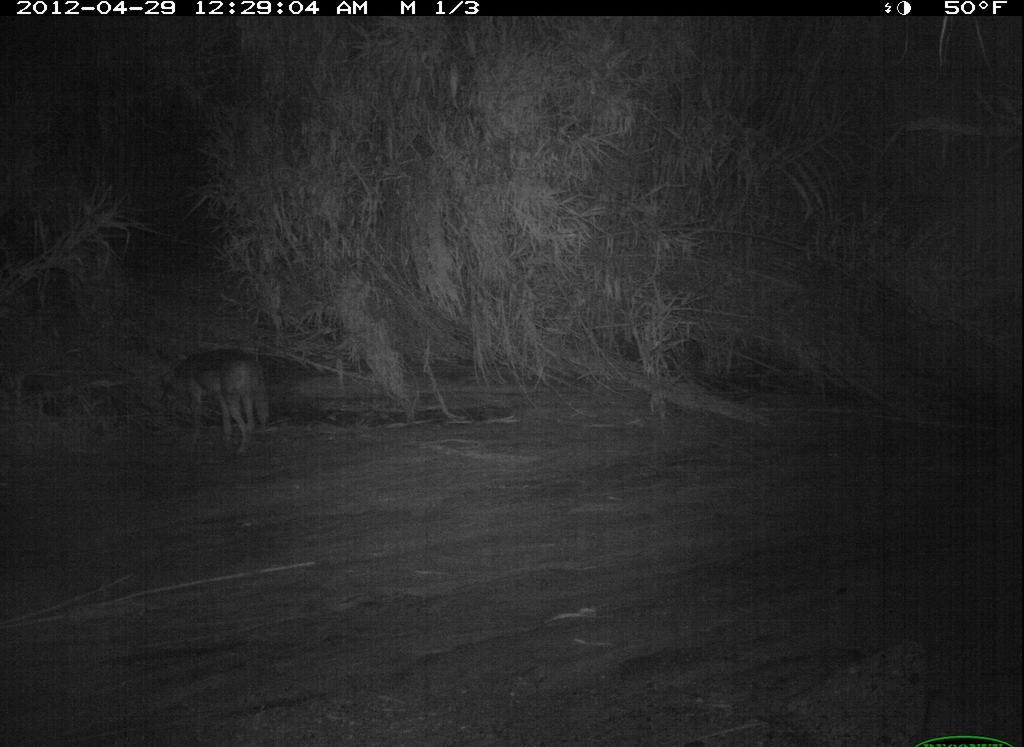coyote: (153, 336, 274, 459)
